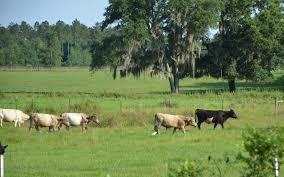cow: (194, 108, 238, 130), (154, 112, 197, 134), (29, 113, 70, 133), (60, 112, 100, 132), (0, 109, 30, 127)
